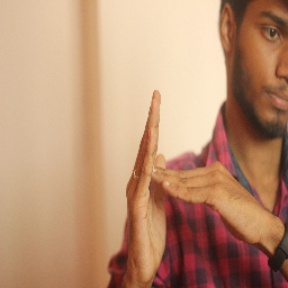Z: (117, 83, 252, 266)
